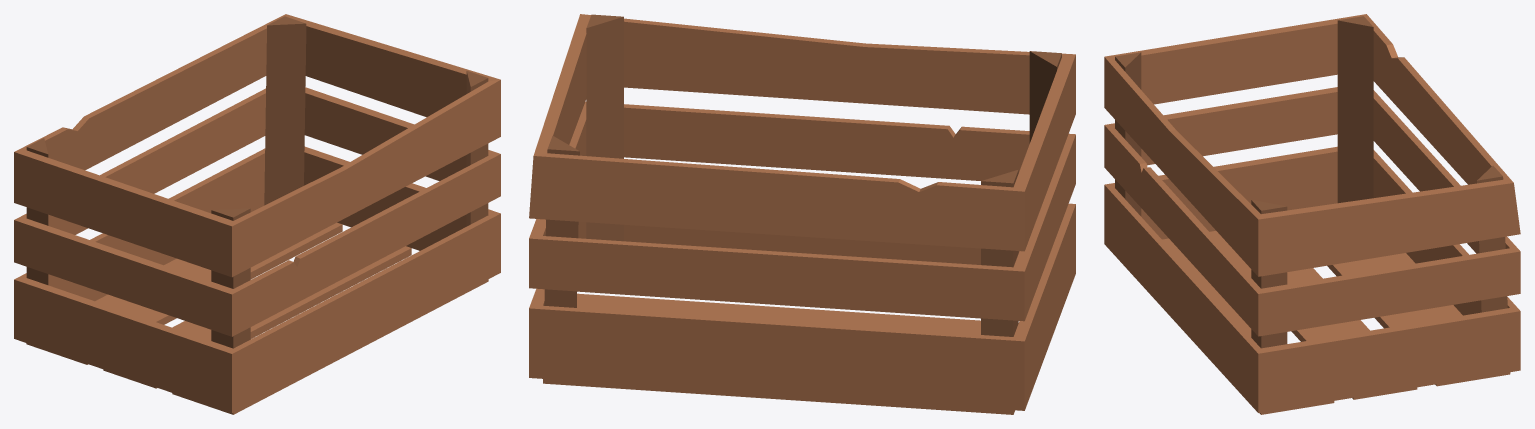
File: fruit_crate.glb
3 renders of one model, left to right at view 1: azimuth 30°, elevation 25°; view 2: azimuth 150°, elevation 25°; view 3: azimuth 270°, elevation 25°, orthographic. The views are drawn at different scales.
Parts seen in each view (by area): view 1: FruitCrate2; view 2: FruitCrate2; view 3: FruitCrate2.
Boxes of the visible parts, left/top/right/bottom form: FruitCrate2: left=14, top=14, right=500, bottom=414; FruitCrate2: left=529, top=14, right=1075, bottom=414; FruitCrate2: left=1104, top=14, right=1520, bottom=414.
Size of the model in its own units: 0.6 by 0.2696 by 0.4985.
